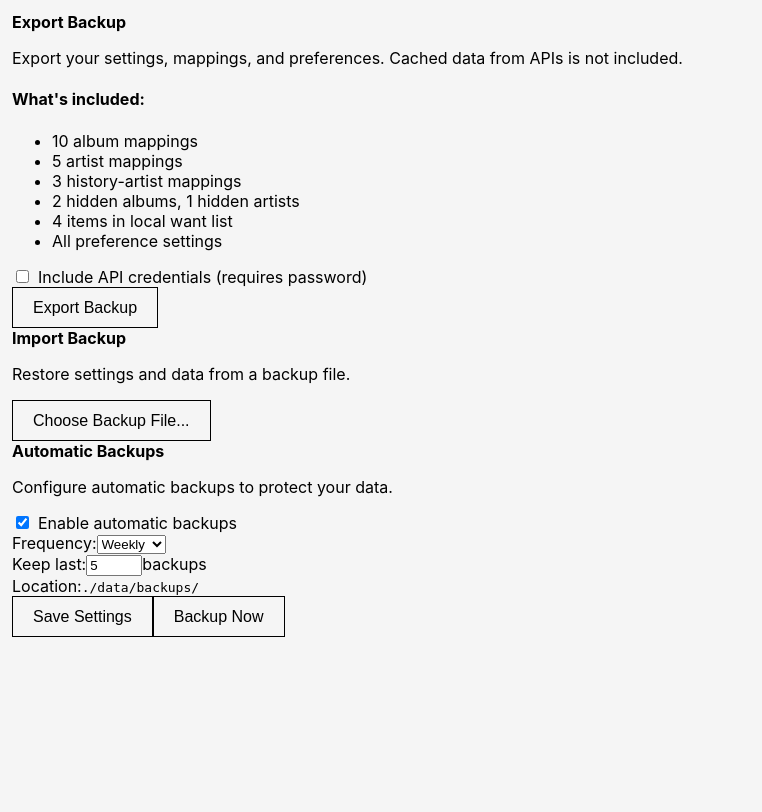
Test: SettingsBackupSection › shows error when passwords do not match
Click the checkbox labelled "Include API credentials (requires password)": [22, 276] box [16,270,29,283]
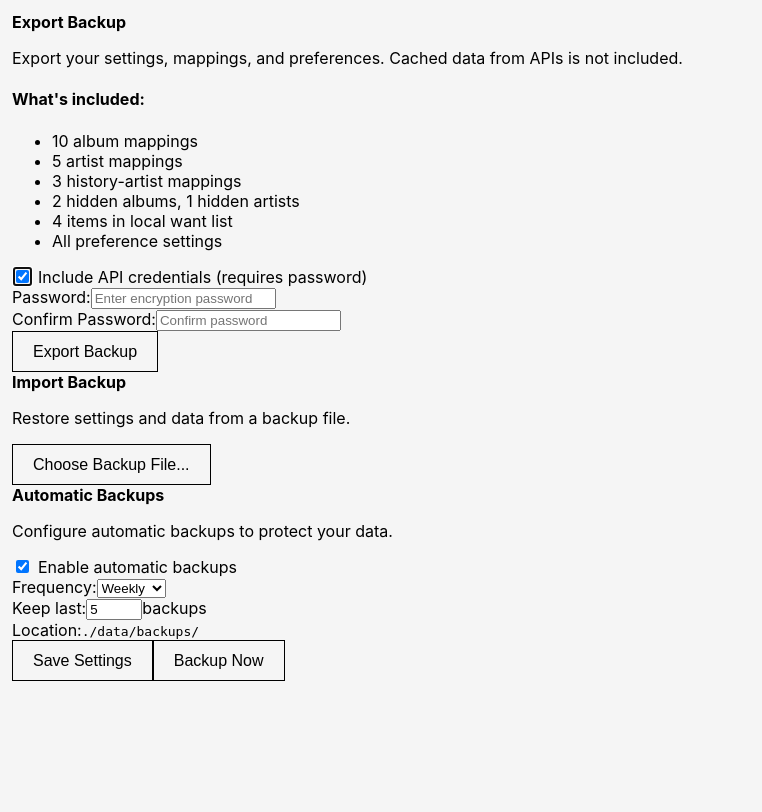
In the password field with placeholder "Enter encryption password": [183, 298] box [91,288,276,308], type "password123"
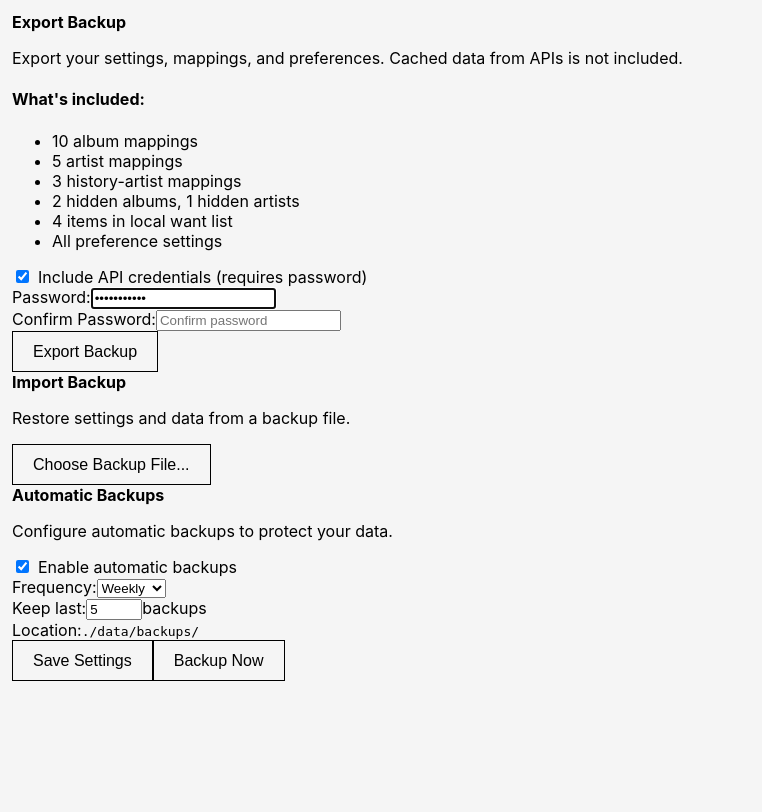
In the password field with placeholder "Confirm password": [248, 320] box [156,310,341,330], type "differentpass"
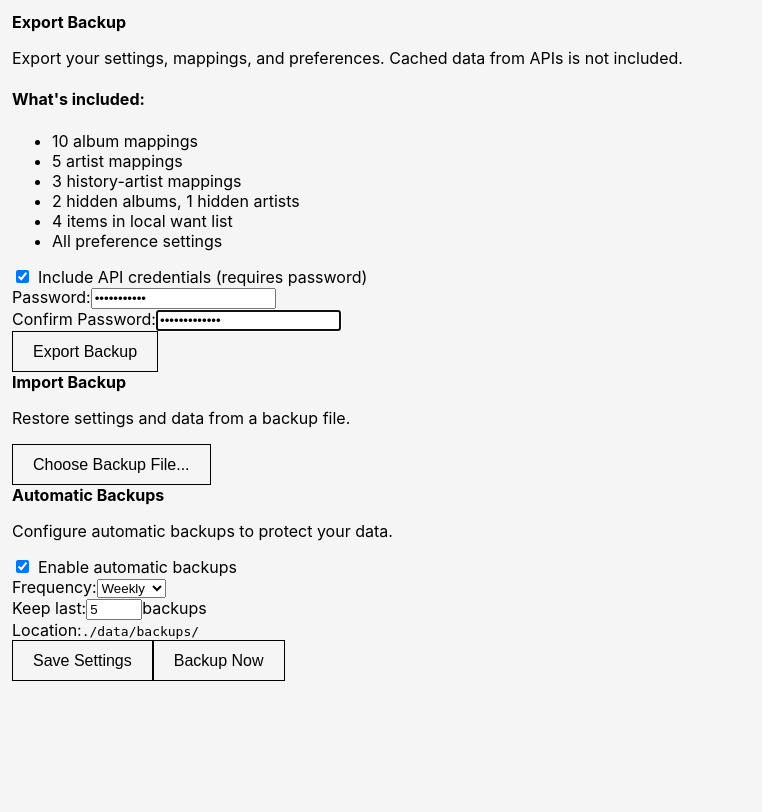
Click the button "Export Backup": [85, 351] box [12,330,158,372]
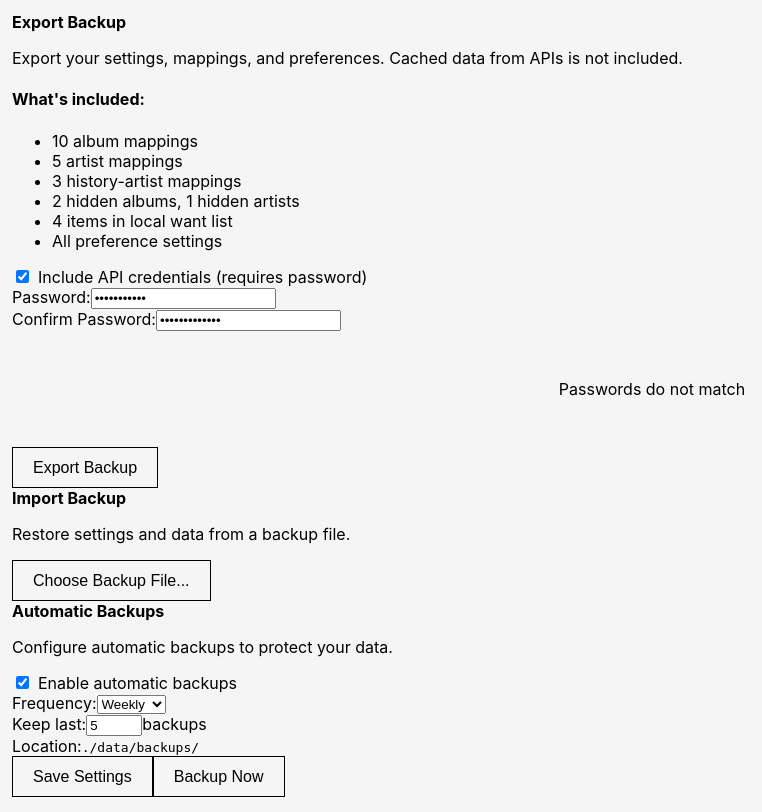
Expected: the text "Passwords do not match" is shown, [559,378,745,398]
